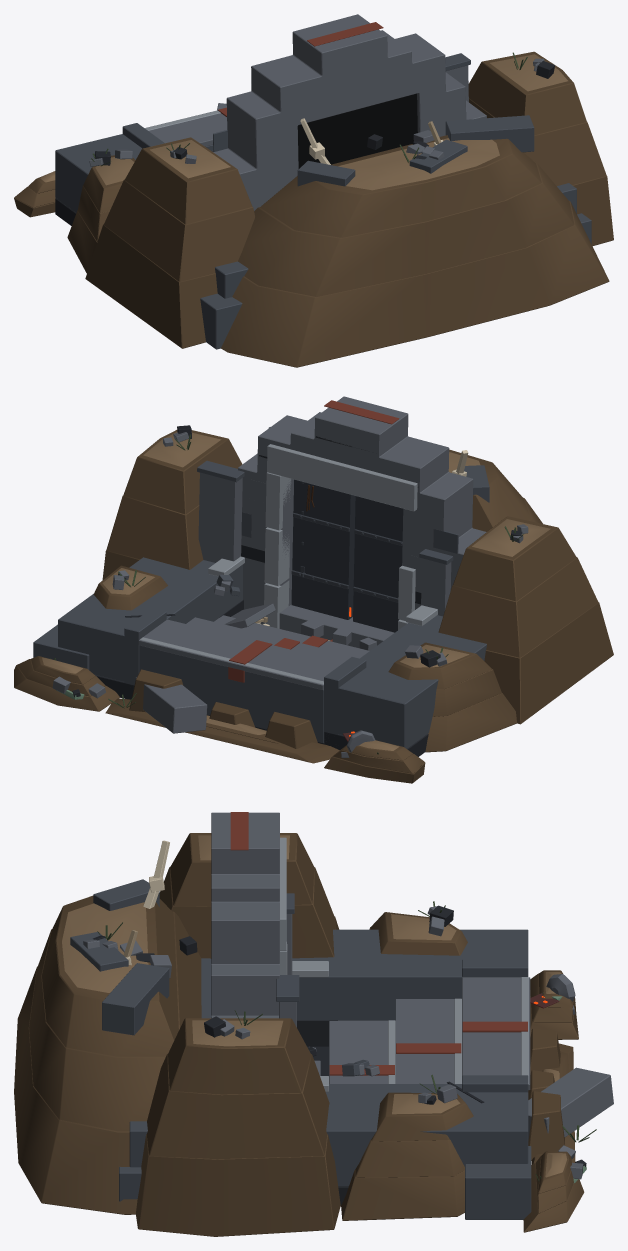
3 views of the same model, one above another, from view 1: azimuth 30°, elevation 25°; view 2: azimuth 150°, elevation 25°; view 3: azimuth 270°, elevation 25° (orthographic). The views are drawn at different scales.
Visible parts, largest first — view 1: DG-earth_dark, DG-ancient, DG-ancient_mid, DG-earth, DG-void, DG-ancient_dark, DG-team; view 2: DG-earth_dark, DG-ancient, DG-ancient_mid, DG-door_stone, DG-ancient_pale, DG-earth, DG-ancient_dark, DG-team, DG-iron; view 3: DG-earth_dark, DG-ancient_mid, DG-ancient, DG-earth, DG-ancient_pale, DG-ancient_dark, DG-team, DG-bone.
Boxes of the visible parts, x1,y1,x2,y2 form: DG-earth_dark: (14, 51, 613, 367); DG-ancient: (89, 14, 544, 210); DG-ancient_mid: (55, 53, 591, 349); DG-earth: (40, 54, 567, 190); DG-void: (297, 93, 417, 168); DG-ancient_dark: (55, 61, 554, 225); DG-team: (218, 22, 383, 116); DG-earth_dark: (14, 430, 613, 783); DG-ancient: (52, 396, 528, 757); DG-ancient_mid: (33, 427, 489, 748); DG-door_stone: (291, 479, 403, 632); DG-ancient_pale: (140, 444, 437, 684); DG-earth: (42, 432, 550, 750); DG-ancient_dark: (72, 425, 522, 756); DG-team: (228, 400, 399, 682); DG-iron: (291, 481, 402, 602); DG-earth_dark: (14, 833, 584, 1236); DG-ancient_mid: (70, 879, 531, 1219); DG-ancient: (83, 812, 613, 1179); DG-earth: (62, 835, 567, 1177); DG-ancient_pale: (280, 837, 528, 1092); DG-ancient_dark: (93, 905, 586, 1205); DG-team: (230, 812, 527, 1075); DG-bone: (125, 840, 169, 965).
Size of the model in its own units: 10.08 by 4.94 by 9.93.
